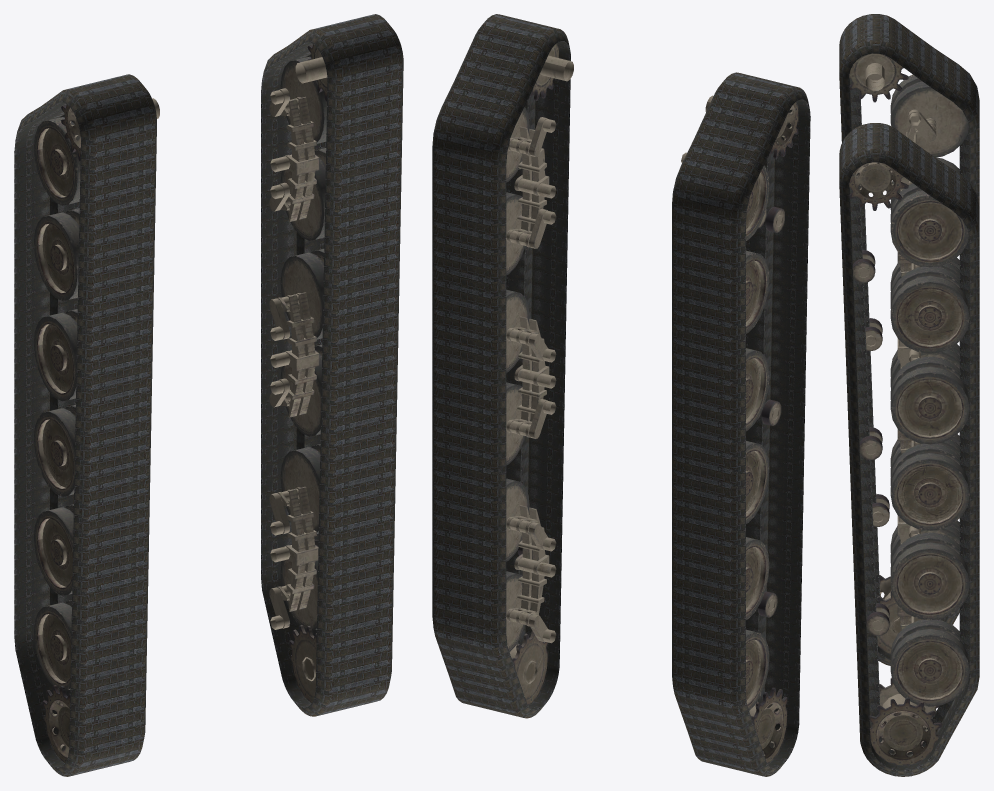
Rendered from Chassis.glb.
3 views of the same model, side by side, from view 1: azimuth 30°, elevation 25°; view 2: azimuth 150°, elevation 25°; view 3: azimuth 270°, elevation 25° (orthographic). The views are drawn at different scales.
Parts seen in each view (by area): view 1: set_3_group_0, set_2_group_0, set_0_group_0, set_1_group_0; view 2: set_3_group_0, set_2_group_0, set_0_group_0, set_1_group_0; view 3: set_0_group_0, set_2_group_0, set_1_group_0, set_3_group_0.
Part boxes in pixels (bbox=[...]): set_3_group_0: bbox=[14, 74, 156, 776]; set_2_group_0: bbox=[261, 14, 403, 716]; set_0_group_0: bbox=[269, 44, 327, 702]; set_1_group_0: bbox=[34, 98, 159, 762]; set_3_group_0: bbox=[672, 72, 810, 776]; set_2_group_0: bbox=[432, 14, 570, 718]; set_0_group_0: bbox=[506, 43, 573, 704]; set_1_group_0: bbox=[681, 95, 798, 763]; set_0_group_0: bbox=[849, 162, 969, 765]; set_2_group_0: bbox=[839, 123, 979, 776]; set_1_group_0: bbox=[849, 53, 968, 653]; set_3_group_0: bbox=[839, 14, 979, 665].
Size of the model in its own units: 3.2 by 6.55 by 1.33.
4 materials, 4 textured.
